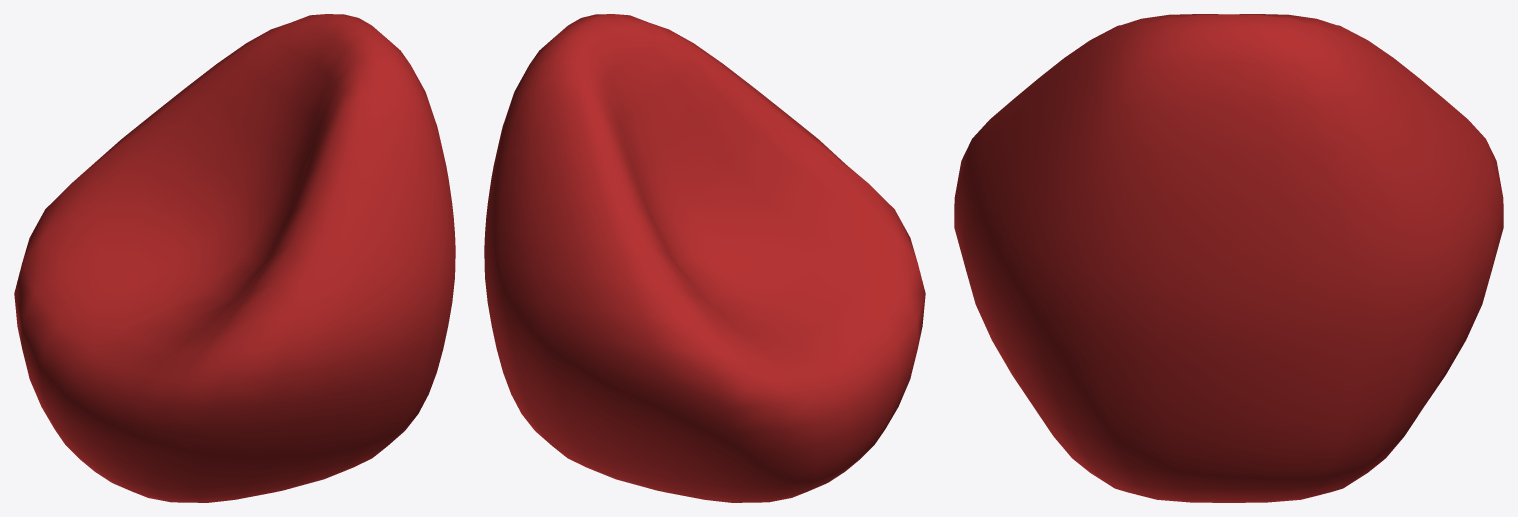
Rendered from beanbag_02_red.fbx.
3 views of the same model, side by side, from view 1: azimuth 30°, elevation 25°; view 2: azimuth 150°, elevation 25°; view 3: azimuth 270°, elevation 25° (orthographic). The views are drawn at different scales.
Visible parts, largest first — view 1: beanbag_02_red; view 2: beanbag_02_red; view 3: beanbag_02_red.
Boxes of the visible parts, left/top/right/bottom form: beanbag_02_red: left=14, top=14, right=455, bottom=502; beanbag_02_red: left=484, top=14, right=925, bottom=502; beanbag_02_red: left=954, top=14, right=1503, bottom=502.
Bounding box in the file's own units: 87.11 × 97.36 × 93.71.
1 material, 1 textured.
